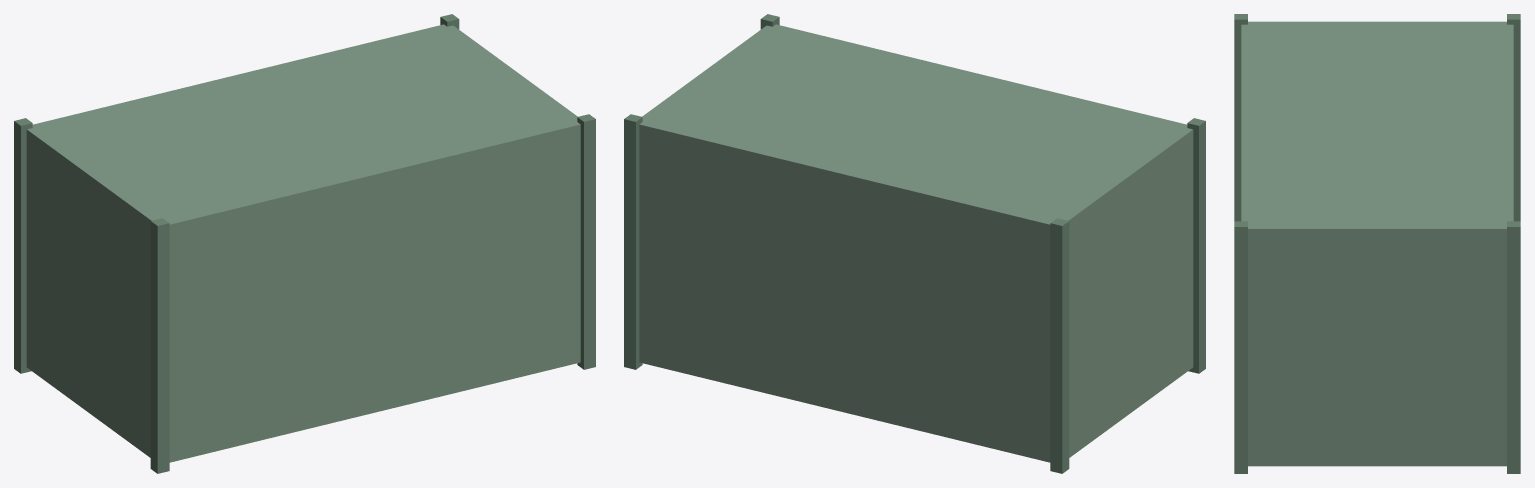
The model's file is gomi.glb.
3 views of the same model, side by side, from view 1: azimuth 30°, elevation 25°; view 2: azimuth 150°, elevation 25°; view 3: azimuth 270°, elevation 25° (orthographic).
Visible parts, largest first — view 1: gomi; view 2: gomi; view 3: gomi.
Part boxes in pixels (<box>): gomi: <box>14,14,595,473</box>; gomi: <box>624,14,1205,473</box>; gomi: <box>1234,14,1520,473</box>.
Size of the model in its own units: 1.85 by 1 by 1.05.
